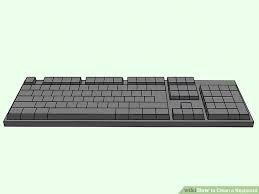keyboard: (0, 67, 259, 131)
